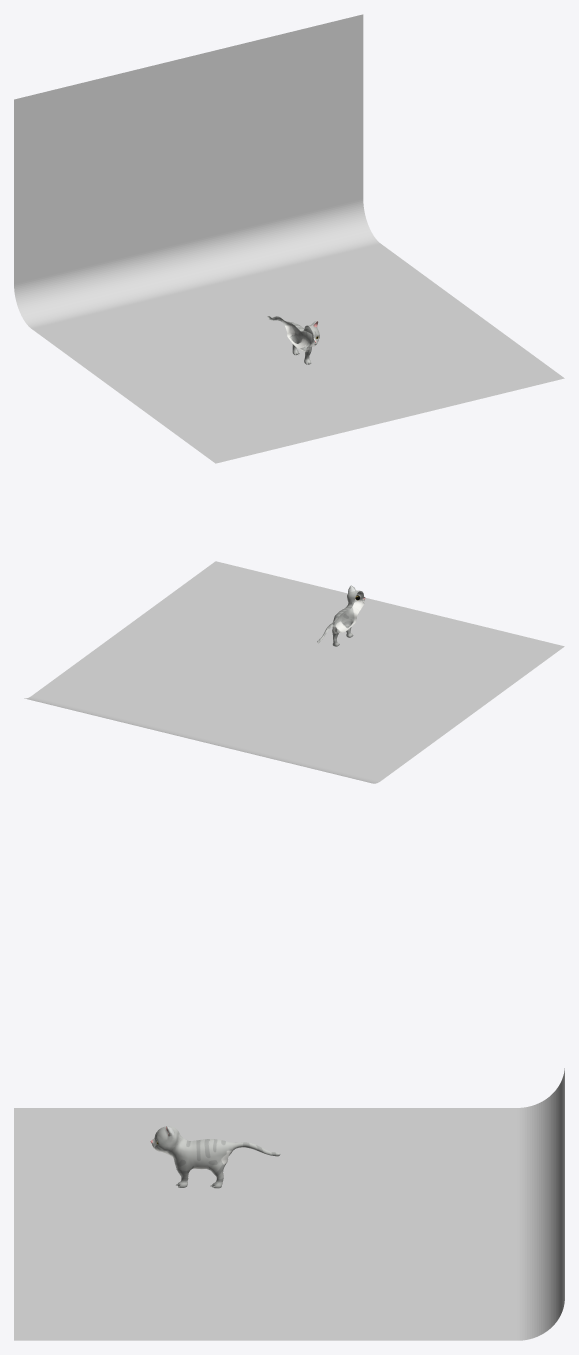
The model's file is walk_cat.glb.
3 renders of one model, top to bottom at view 1: azimuth 30°, elevation 25°; view 2: azimuth 150°, elevation 25°; view 3: azimuth 270°, elevation 25°, orthographic. The views are drawn at different scales.
Visible parts, largest first — view 1: Plane, Cat; view 2: Plane, Cat; view 3: Plane, Cat.
Part boxes in pixels (left/top/right/bottom): Plane: left=14, top=14, right=564, bottom=463; Cat: left=267, top=316, right=319, bottom=364; Plane: left=24, top=561, right=564, bottom=783; Cat: left=317, top=585, right=365, bottom=646; Plane: left=14, top=1068, right=564, bottom=1340; Cat: left=150, top=1126, right=280, bottom=1188.
Size of the model in its own units: 16.25 by 9.63 by 16.25.
3 materials, 2 textured.
